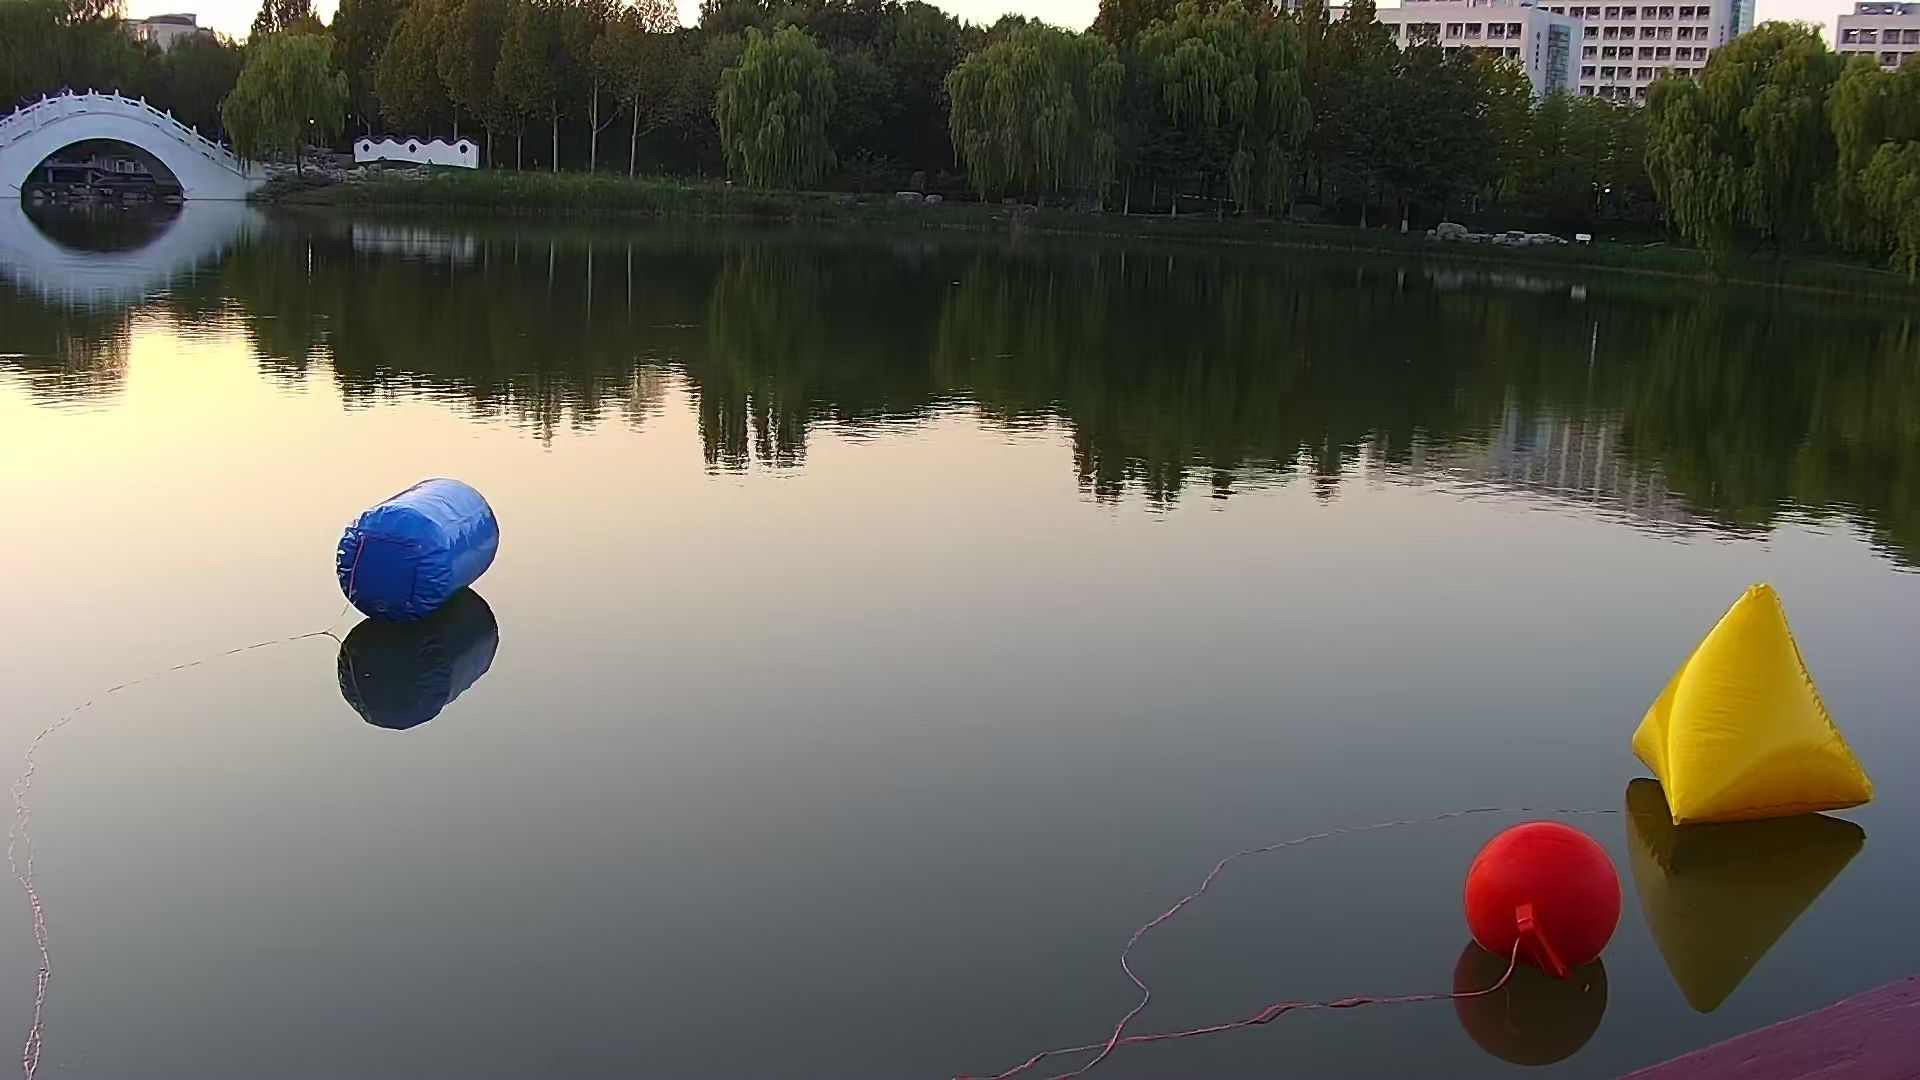ball: (1458, 814, 1627, 978)
bridge: (1, 96, 277, 207)
rock: (331, 459, 505, 617)
rubbish: (1638, 578, 1873, 829)
